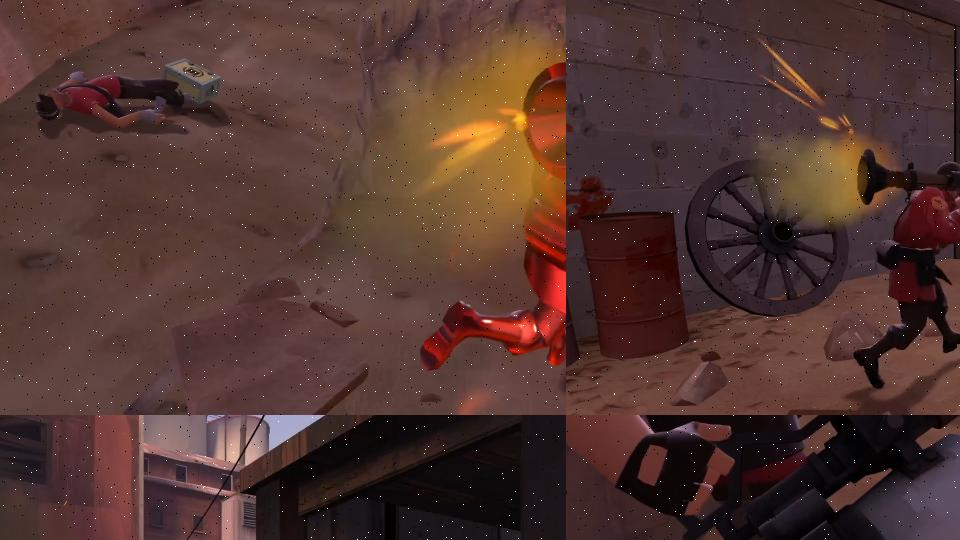Enemy: (416, 1, 566, 371), (566, 415, 960, 540), (852, 144, 960, 390), (34, 70, 190, 126)
